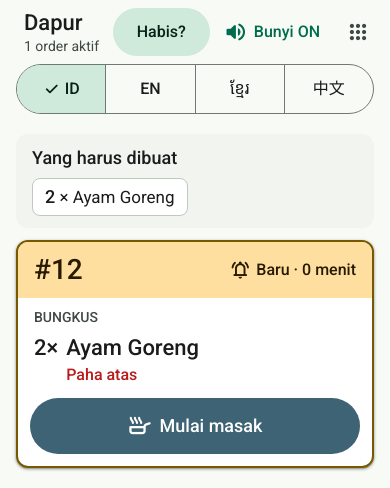
Scenario: Layar dapur › Mulai masak mengirim status cooking
Click the button "Mulai masak".
click(195, 426)  # box [30,398,360,454]
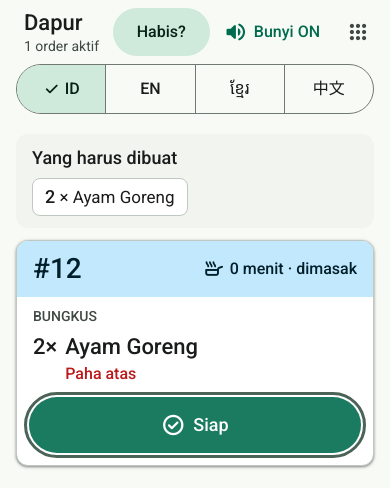
Check: the button "Siap" is shown, box [29,397,361,453]
